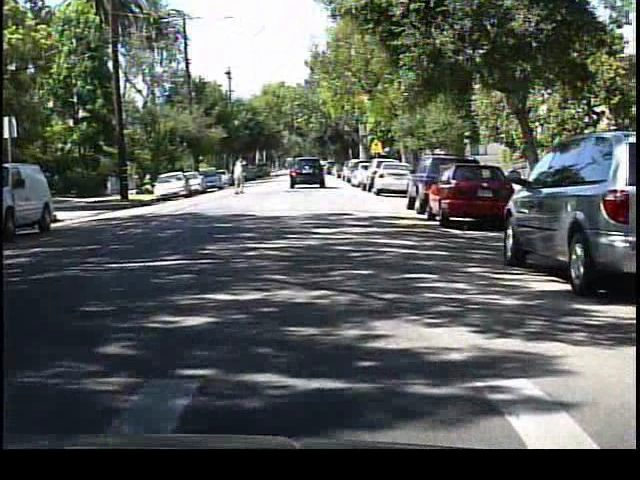person: (229, 154, 252, 197)
